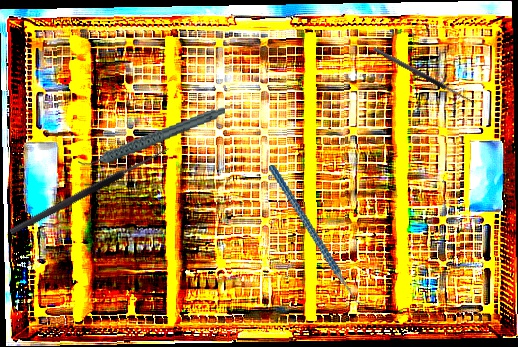Chopper: (268, 150, 371, 322)
Handpiece: (72, 105, 231, 168)
Hook Surgical: (4, 136, 171, 237), (372, 41, 480, 106)
